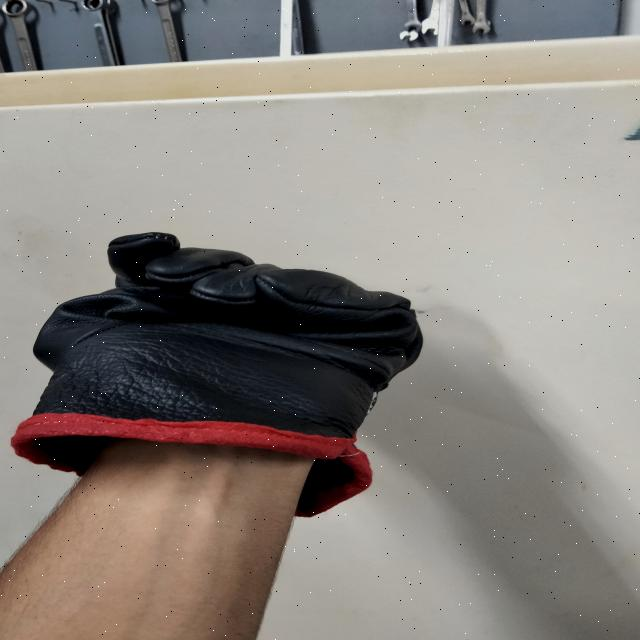Gloves: (0, 234, 464, 496)
